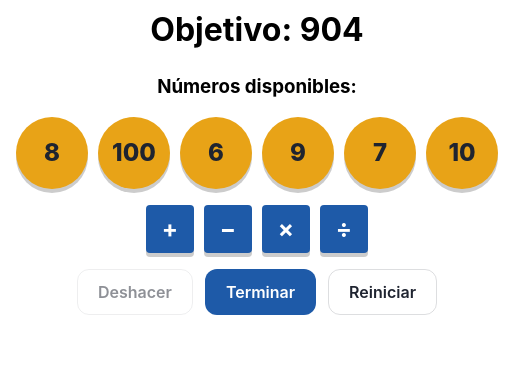
NumbersGame › shows a message when a subtraction is not positive
Click the button "6": (216, 153) [180,117,252,189]
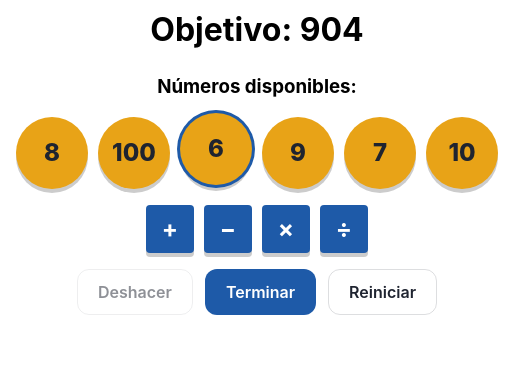
Click the button named "Restar": (228, 229) [204,205,252,253]
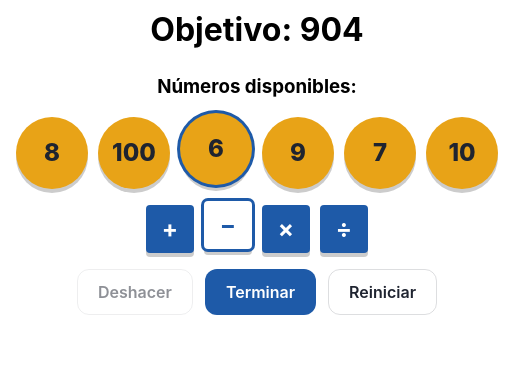
Click the button "100": (134, 153) [98,117,170,189]
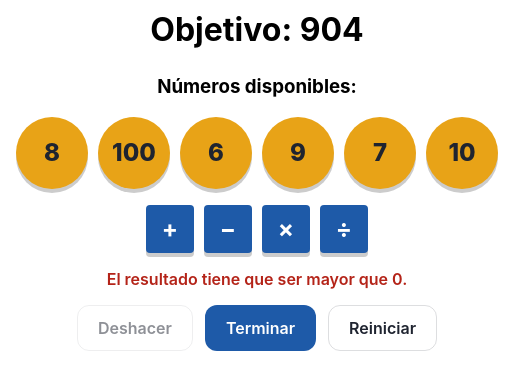
Expected: the message shows "mayor que 0", [107,269,407,289]
